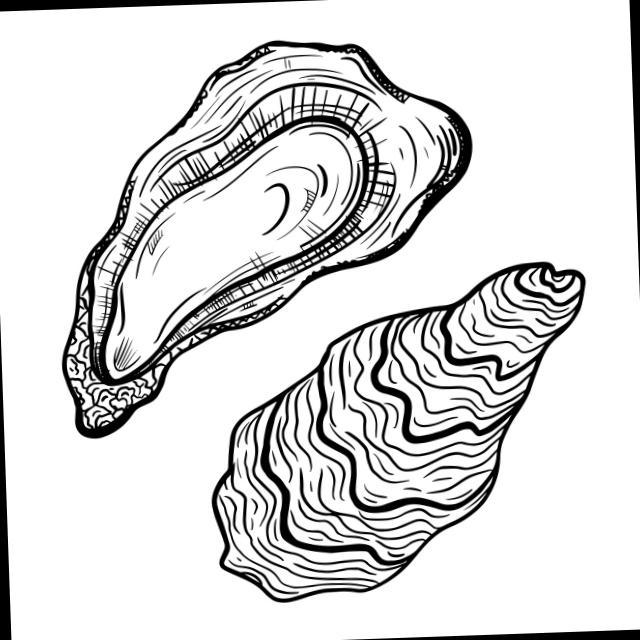Oyster- Indeterminate: (214, 262, 585, 601)
Oyster-Open: (64, 41, 471, 437)
